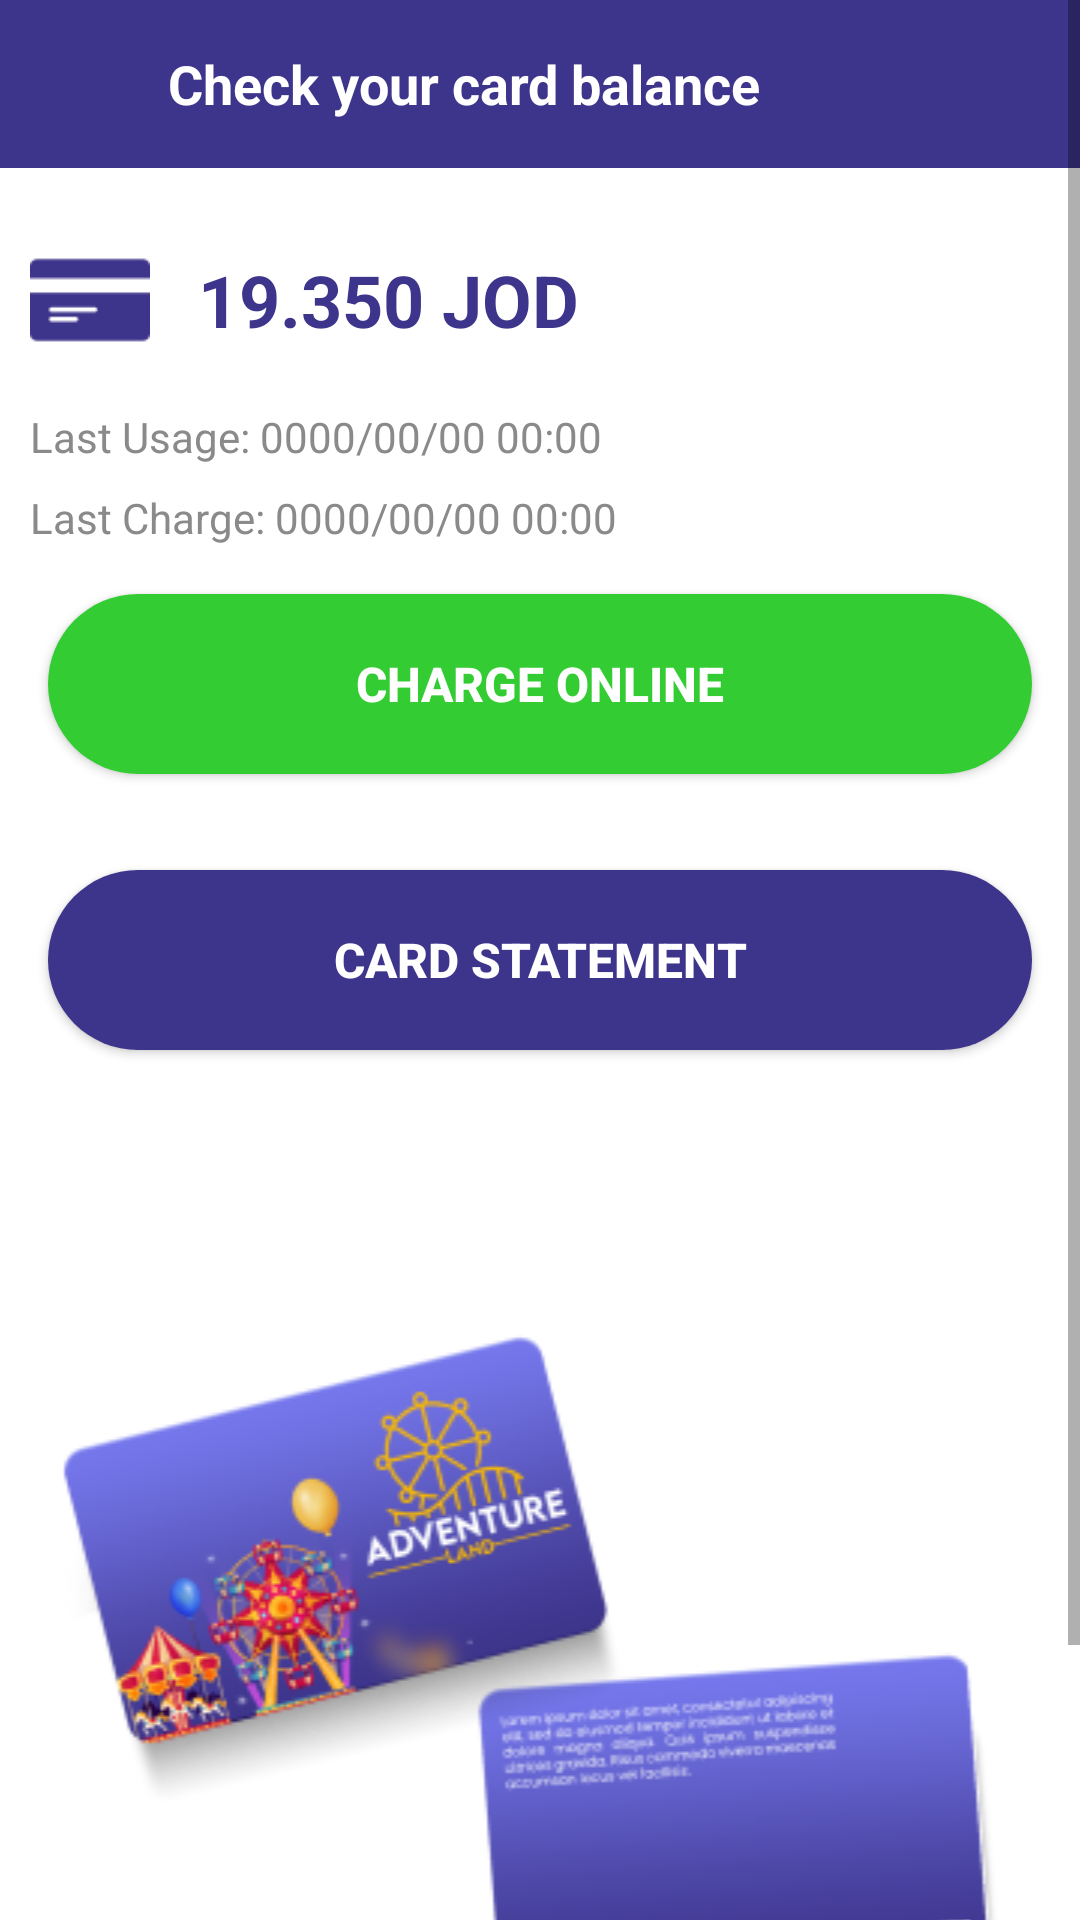

Locate icon controls on the screen. Image size 1080px×1920px, boxes as (x1,y1,x2,y2).
credit card: (30,258,150,342)
